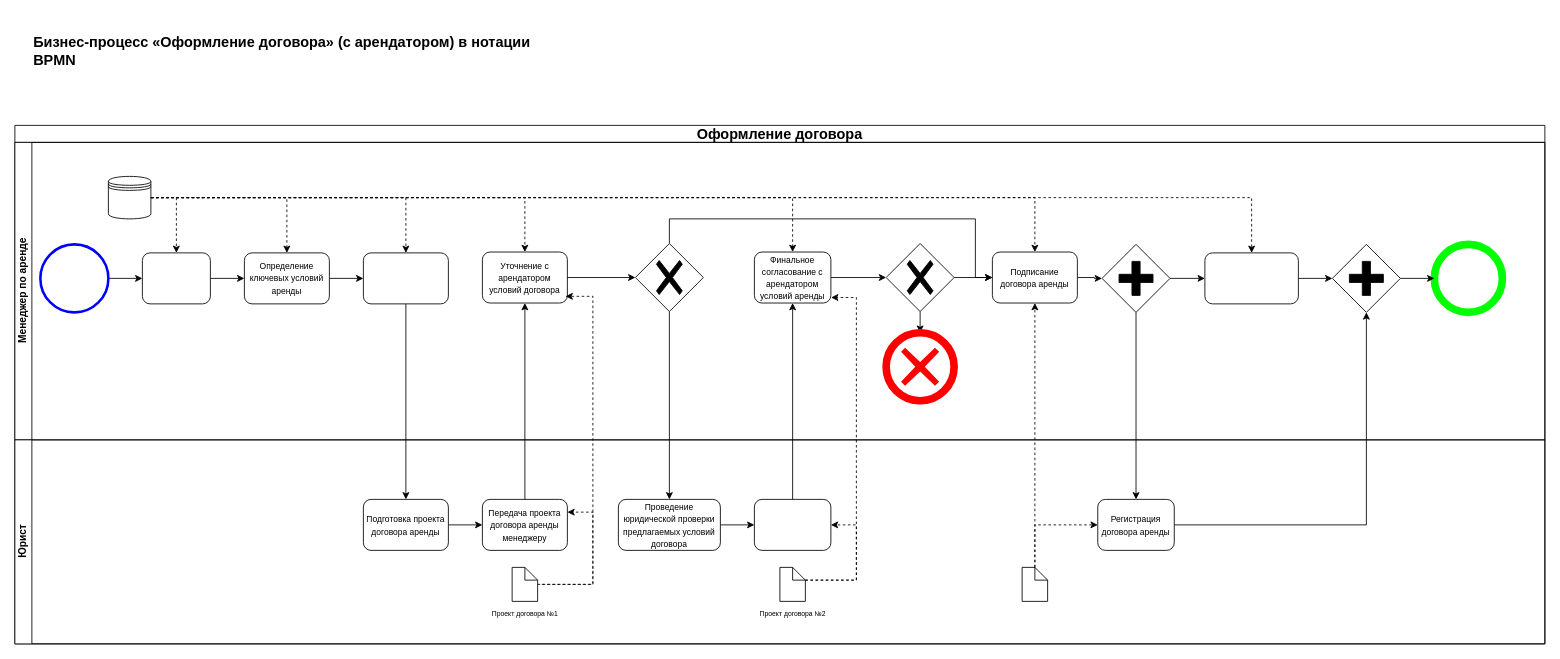
The diagram is 1560 pixels wide and 659 high, and some of its shapes have lost their labels. Here are the shapes that lost their labels. From the top down, the centre of each, then its label:
At (129,197): "CRM".
At (74,278): "Заявка на заключение договора аренды".
At (176,278): "Регистрация заявки".
At (405,278): "Формирование пакета документов и передача юристам".
At (1251,278): "Процесс передачи объекта арендатору".
At (792,524): "Внесение изменений в проект договора".
At (1034,584): "Договор аренды".
